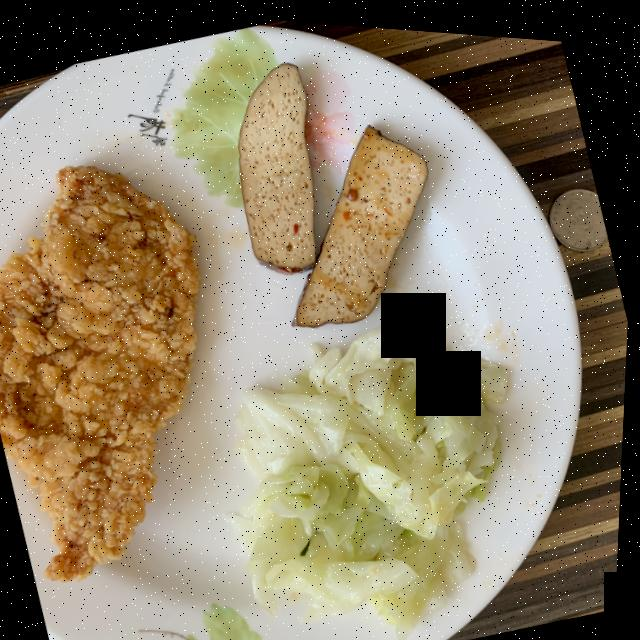cabbage: (234, 321, 509, 634)
coin: (551, 178, 609, 241)
firm tofu: (239, 57, 429, 321)
fried chicken cutlet: (0, 163, 202, 578)
